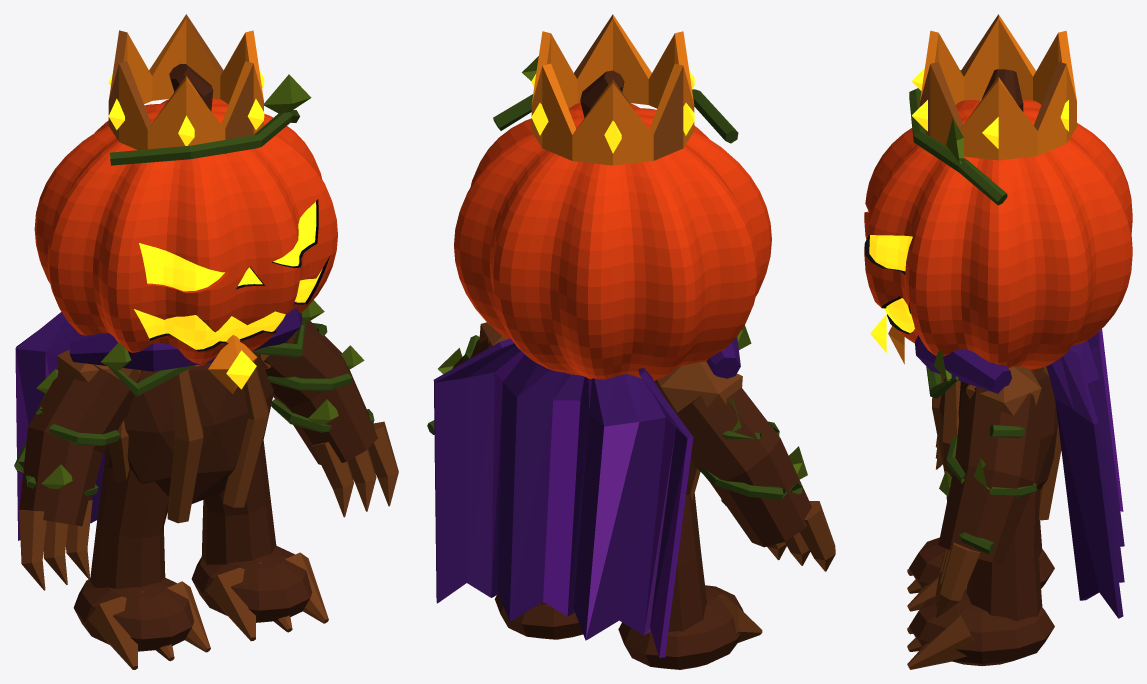
Rendered from PumpkinKing.fbx.
3 views of the same model, side by side, from view 1: azimuth 30°, elevation 25°; view 2: azimuth 150°, elevation 25°; view 3: azimuth 270°, elevation 25° (orthographic). The views are drawn at different scales.
Visible parts, largest first — view 1: Carved ten-lobed pumpkin, Six point gold crown, Twisted trunk, Branch arm-1, Tree leg-1, Branch arm1, Root foot-1, Tree leg1, Root foot1, Royal tattered cape, Trunk bark ridge4, Jagged grin recessed glowing liner (+26 smaller); view 2: Carved ten-lobed pumpkin, Royal tattered cape, Six point gold crown, Branch arm-1, Root foot-1, Tree leg-1, Bark shoulder-1, Root foot1, Crown vine, Claw root finger-10, Arm wrapping vine-1, Purple folded collar-1 (+2 smaller); view 3: Carved ten-lobed pumpkin, Six point gold crown, Royal tattered cape, Branch arm1, Root foot1, Tree leg1, Purple folded collar1, Crown vine, Twisted trunk, Foot root12, Claw root finger12, Arm wrapping vine1 (+11 smaller).
Boxes of the visible parts, x1,y1,x2,y2 form: Carved ten-lobed pumpkin: (34, 98, 337, 366); Six point gold crown: (108, 14, 263, 155); Twisted trunk: (104, 353, 273, 503); Branch arm-1: (19, 364, 134, 526); Tree leg-1: (90, 457, 168, 589); Branch arm1: (264, 321, 377, 464); Root foot-1: (73, 578, 194, 651); Tree leg1: (201, 440, 276, 564); Root foot1: (191, 546, 312, 622); Royal tattered cape: (15, 312, 105, 540); Trunk bark ridge4: (167, 369, 203, 523); Jagged grin recessed glowing liner: (134, 269, 322, 349); Carved ten-lobed pumpkin: (454, 102, 771, 380); Royal tattered cape: (433, 338, 693, 657); Six point gold crown: (531, 14, 694, 165); Branch arm-1: (676, 377, 811, 547); Root foot-1: (618, 585, 743, 669); Tree leg-1: (668, 493, 706, 631); Bark shoulder-1: (655, 361, 742, 413); Root foot1: (494, 594, 582, 639); Crown vine: (493, 89, 738, 143); Claw root finger-10: (799, 501, 835, 571); Arm wrapping vine-1: (694, 421, 802, 505); Purple folded collar-1: (706, 336, 740, 378); Carved ten-lobed pumpkin: (864, 100, 1132, 369); Six point gold crown: (920, 14, 1076, 160); Royal tattered cape: (1046, 329, 1124, 618); Branch arm1: (938, 387, 1045, 564); Root foot1: (909, 588, 1054, 665); Tree leg1: (966, 488, 1042, 621); Purple folded collar1: (915, 335, 1011, 393); Crown vine: (909, 70, 1007, 205); Twisted trunk: (939, 367, 1057, 489); Foot root12: (907, 610, 976, 669); Claw root finger12: (935, 542, 980, 617); Arm wrapping vine1: (946, 425, 1036, 554).
Bounding box in the file's own units: 320 × 465 × 195.
